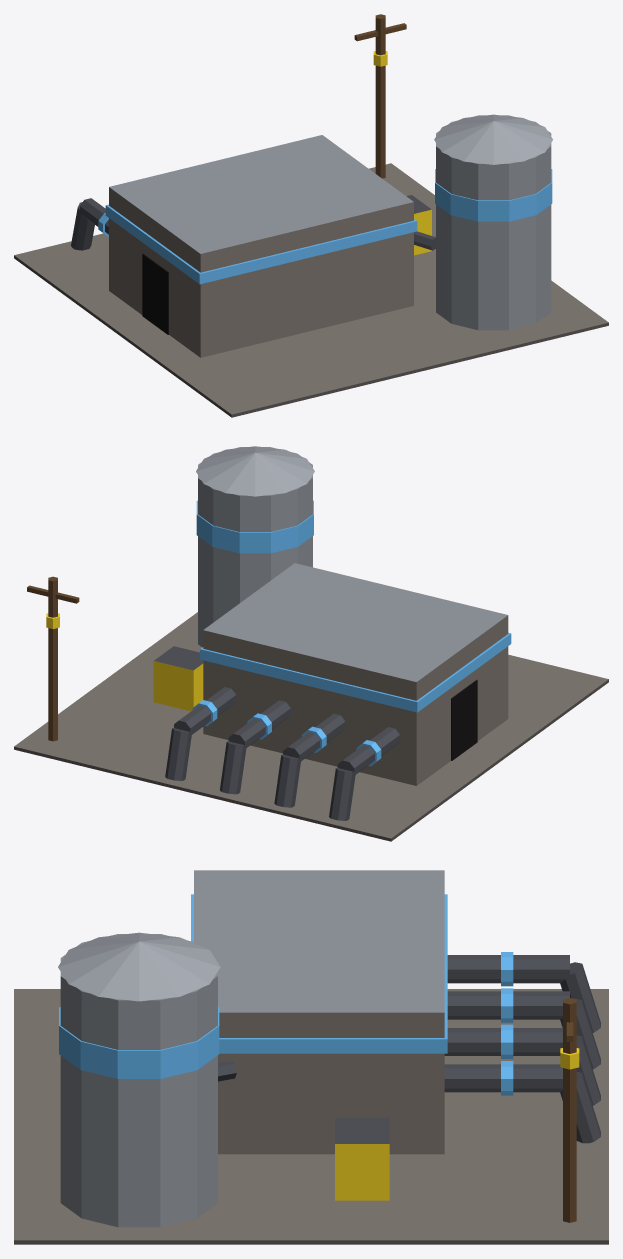
Rendered from water_pump_3.glb.
3 renders of one model, top to bottom at view 1: azimuth 30°, elevation 25°; view 2: azimuth 150°, elevation 25°; view 3: azimuth 270°, elevation 25°, orthographic. The views are drawn at different scales.
Visible parts, largest first — view 1: water_pump_3; view 2: water_pump_3; view 3: water_pump_3.
Part boxes in pixels (x1,y1,x2,y2): water_pump_3: [14, 14, 608, 417]; water_pump_3: [14, 446, 608, 841]; water_pump_3: [14, 870, 608, 1244].
Bounding box in the file's own units: 3.8 × 1.81 × 3.8.
